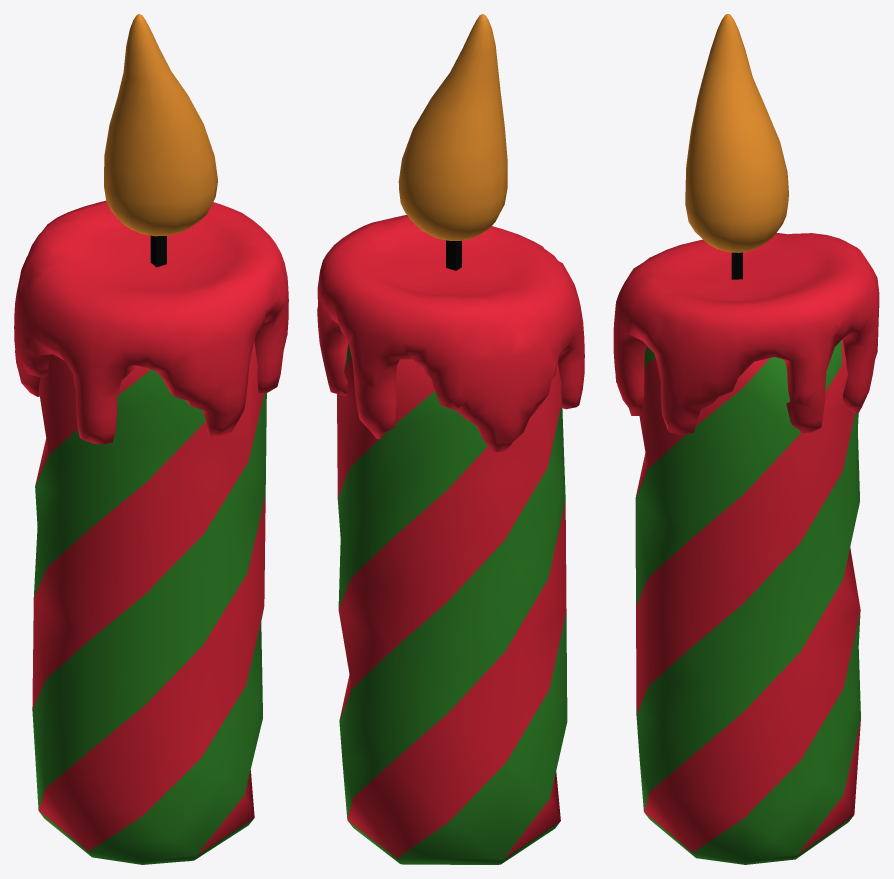
Rendered from candle2.glb.
3 views of the same model, side by side, from view 1: azimuth 30°, elevation 25°; view 2: azimuth 150°, elevation 25°; view 3: azimuth 270°, elevation 25° (orthographic). The views are drawn at different scales.
Parts seen in each view (by area): view 1: Circle.052; view 2: Circle.052; view 3: Circle.052.
Part boxes in pixels (x1,y1,x2,y2): Circle.052: (14, 14, 288, 864); Circle.052: (317, 14, 584, 864); Circle.052: (613, 14, 879, 864).
Bounding box in the file's own units: 0.5975 × 2.03 × 0.6099.
